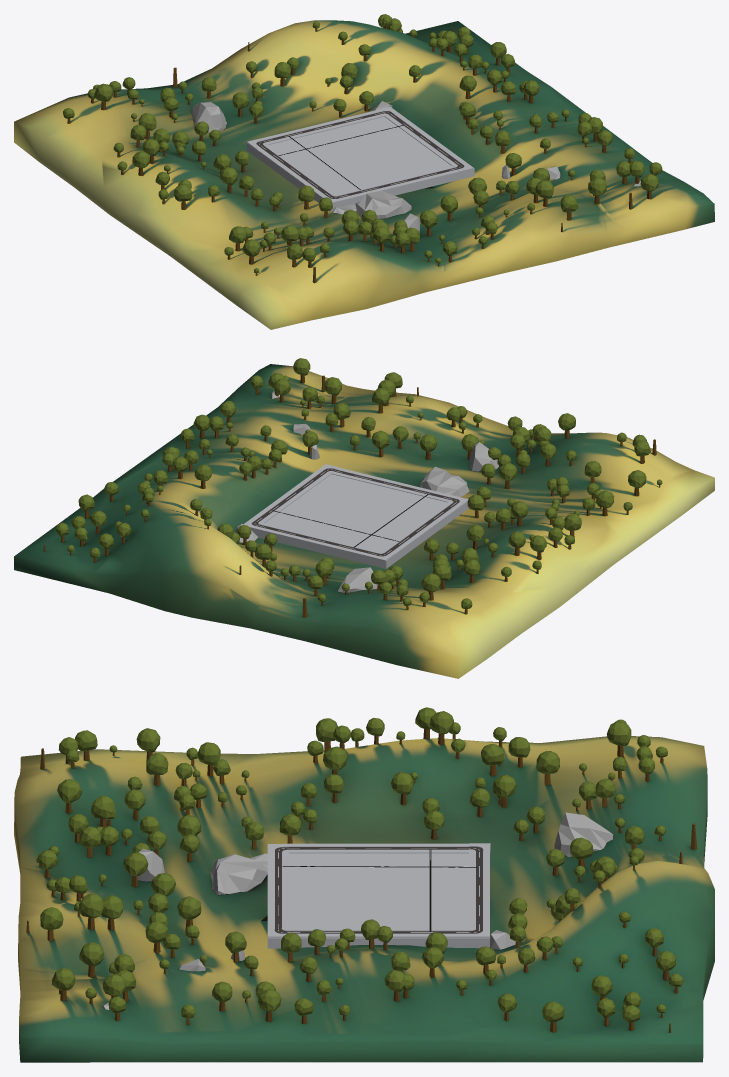
The picture shows the model from 3 angles, top to bottom: view 1: azimuth 30°, elevation 25°; view 2: azimuth 150°, elevation 25°; view 3: azimuth 270°, elevation 25°; orthographic projection. The views are drawn at different scales.
Visible parts, largest first — view 1: Floor, Trees, Street_Empty, Rocks, Street_Curve.002, Street_Straight.003, Street_Straight.004, Street_Straight.002; view 2: Floor, Trees, Street_Empty, Rocks, Street_Curve.002, Street_Straight.003, Street_Straight.002, Street_Straight.004; view 3: Floor, Trees, Street_Empty, Rocks, Street_Straight.002, Street_Curve.002, Street_Straight.003, Street_Straight.004.
Part boxes in pixels (x1,y1,x2,y2): Floor: [14, 20, 714, 329]; Trees: [63, 14, 662, 283]; Street_Empty: [246, 109, 474, 211]; Rocks: [192, 101, 640, 232]; Street_Curve.002: [325, 162, 473, 204]; Street_Straight.003: [261, 110, 384, 144]; Street_Straight.004: [384, 113, 465, 165]; Street_Straight.002: [255, 144, 336, 197]; Floor: [14, 364, 714, 678]; Trees: [43, 358, 662, 617]; Street_Empty: [251, 465, 468, 568]; Rocks: [235, 390, 498, 592]; Street_Curve.002: [318, 464, 468, 504]; Street_Straight.003: [253, 523, 379, 558]; Street_Straight.002: [381, 501, 462, 554]; Street_Straight.004: [250, 470, 331, 522]; Floor: [14, 736, 714, 1062]; Trees: [26, 707, 697, 1032]; Street_Empty: [267, 850, 489, 948]; Rocks: [103, 812, 613, 1009]; Street_Straight.002: [286, 843, 469, 853]; Street_Curve.002: [267, 843, 288, 937]; Street_Straight.003: [469, 852, 489, 929]; Street_Straight.004: [288, 928, 468, 937].
Size of the model in its own units: 65.14 by 10.12 by 66.38.
Materials: 35 (1 with a texture image).
